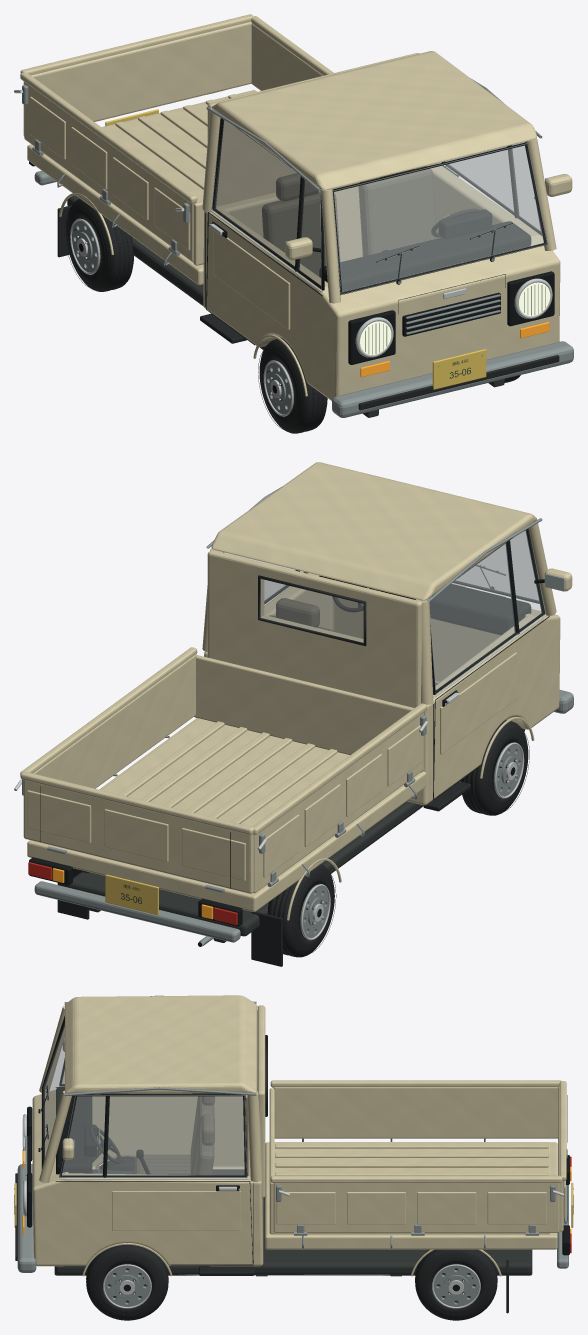
The model's file is kei_truck.glb.
3 views of the same model, one above another, from view 1: azimuth 30°, elevation 25°; view 2: azimuth 150°, elevation 25°; view 3: azimuth 270°, elevation 25° (orthographic). The views are drawn at different scales.
Visible parts, largest first — view 1: Body, Wheel_RL_mesh, Wheel_FL_mesh; view 2: Body, Wheel_FL_mesh, Wheel_RL_mesh; view 3: Body, Wheel_FR_mesh, Wheel_RR_mesh.
Boxes of the visible parts, <box> form: Body: <box>14,14,573,417</box>; Wheel_RL_mesh: <box>64,198,133,291</box>; Wheel_FL_mesh: <box>258,338,327,433</box>; Body: <box>14,462,573,966</box>; Wheel_FL_mesh: <box>460,720,529,815</box>; Wheel_RL_mesh: <box>268,864,336,957</box>; Body: <box>14,995,573,1313</box>; Wheel_FR_mesh: <box>86,1245,168,1320</box>; Wheel_RR_mesh: <box>415,1249,497,1320</box>.
Size of the model in its own units: 1.76 by 1.65 by 3.54.
Materials: 17 (3 with a texture image).
